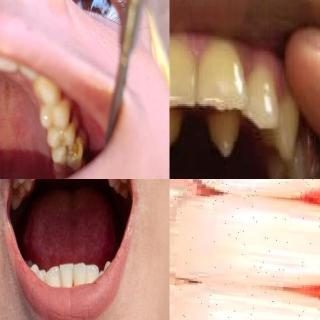cavities: (54, 139, 84, 169)
maligned: (198, 102, 255, 158), (170, 101, 188, 159)
